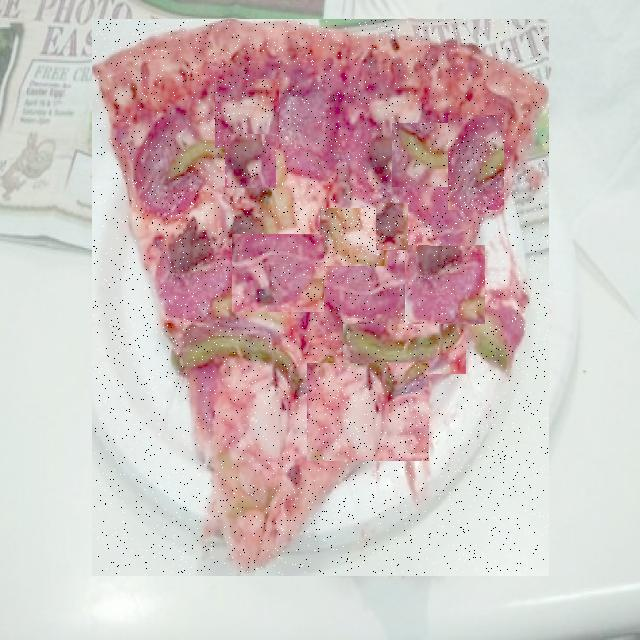Cheese: (307, 364, 429, 461), (215, 80, 279, 148)
Green Pepper: (343, 326, 466, 376), (392, 124, 481, 187), (321, 209, 388, 266), (119, 322, 179, 376)
Olives: (225, 134, 276, 188), (430, 215, 474, 272), (376, 204, 408, 250)
Pepperoni: (232, 236, 324, 314), (302, 70, 369, 170), (405, 246, 485, 324), (448, 117, 504, 210)
Pizza: (93, 20, 549, 575)
